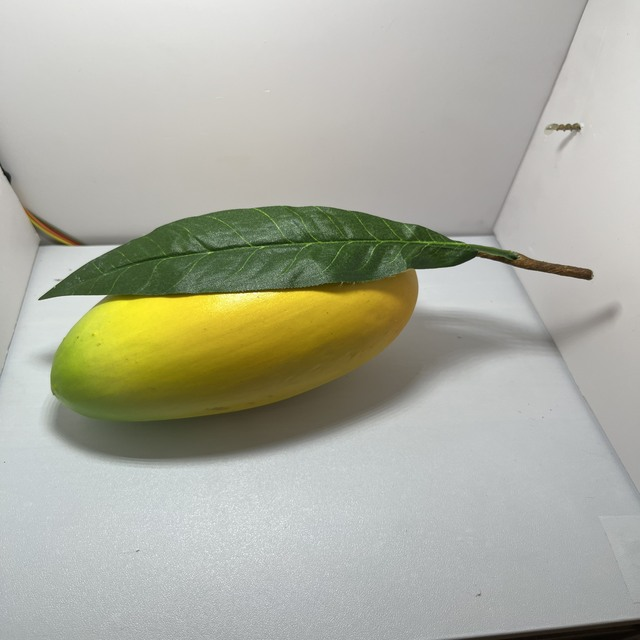Xoai: (10, 144, 450, 479)
